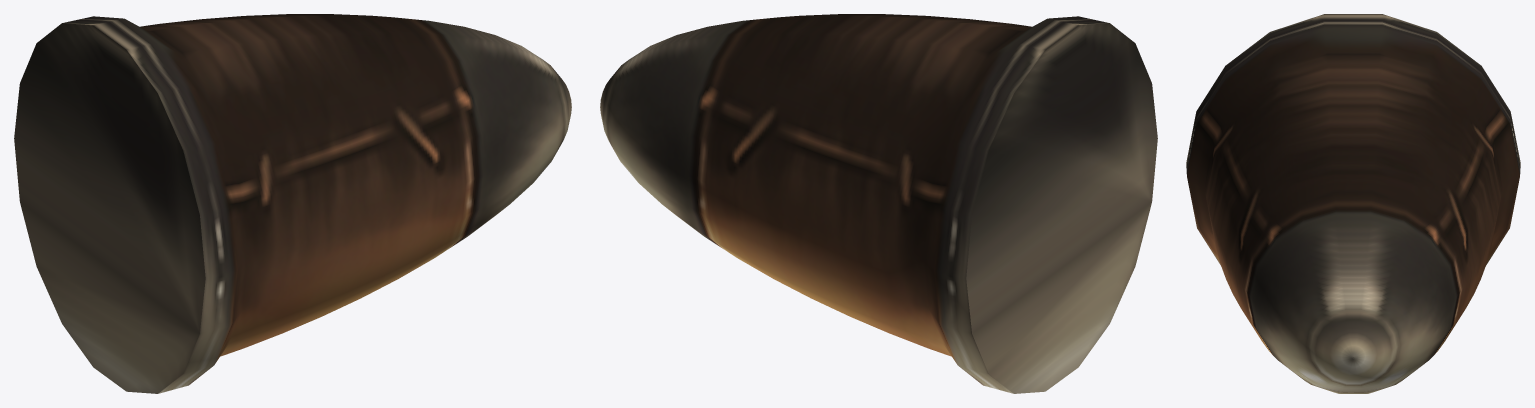
Rendered from fx_paodan_mo_01.FBX.
3 views of the same model, side by side, from view 1: azimuth 30°, elevation 25°; view 2: azimuth 150°, elevation 25°; view 3: azimuth 270°, elevation 25° (orthographic). The views are drawn at different scales.
Parts seen in each view (by area): view 1: Cylinder001; view 2: Cylinder001; view 3: Cylinder001.
Part boxes in pixels (x1,y1,x2,y2): Cylinder001: (14, 14, 571, 393); Cylinder001: (600, 14, 1157, 393); Cylinder001: (1186, 14, 1520, 393).
Size of the model in its own units: 64.99 by 46.5 by 47.22.
